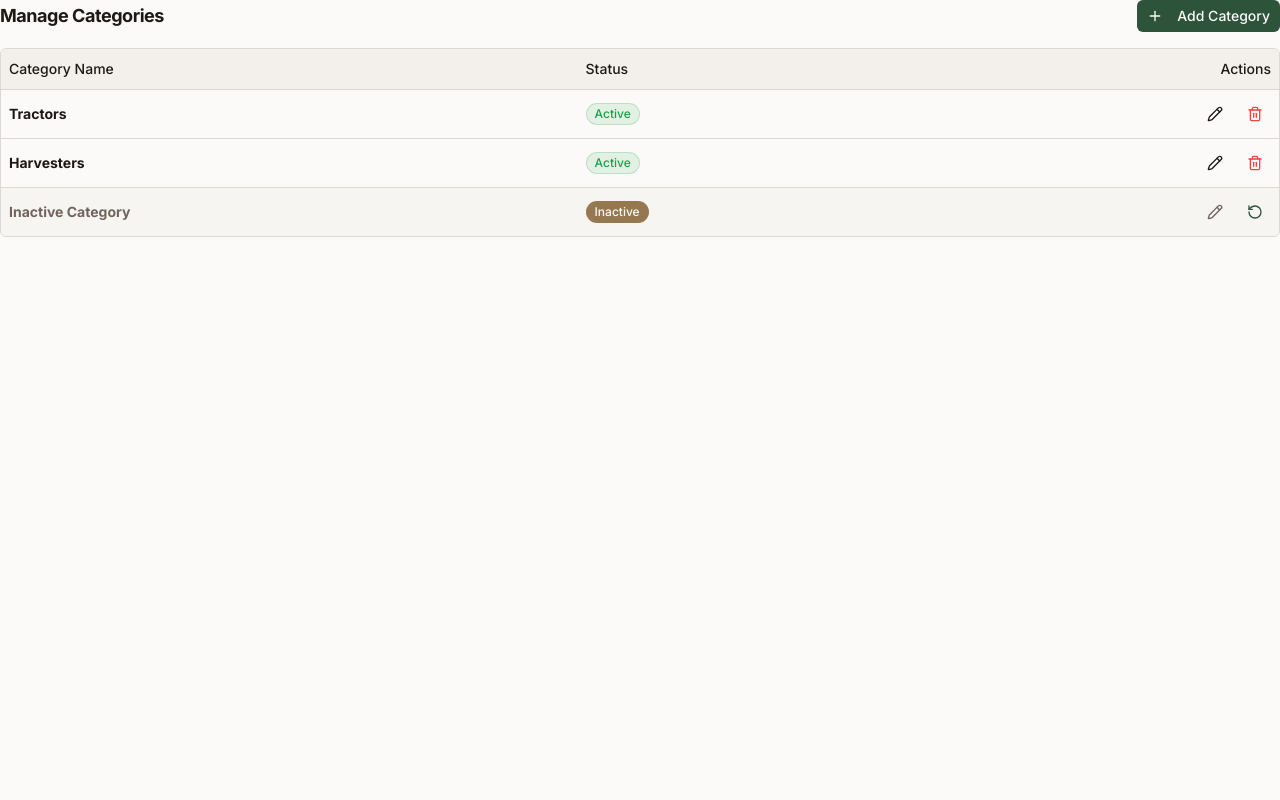
Test: CategoryManager › should not delete a category if confirm is cancelled
What coordinates should you click on to do the following:
click the button named "Deactivate category"
I would click on:
 (1255, 114)
Its box is [1239, 98, 1271, 130].
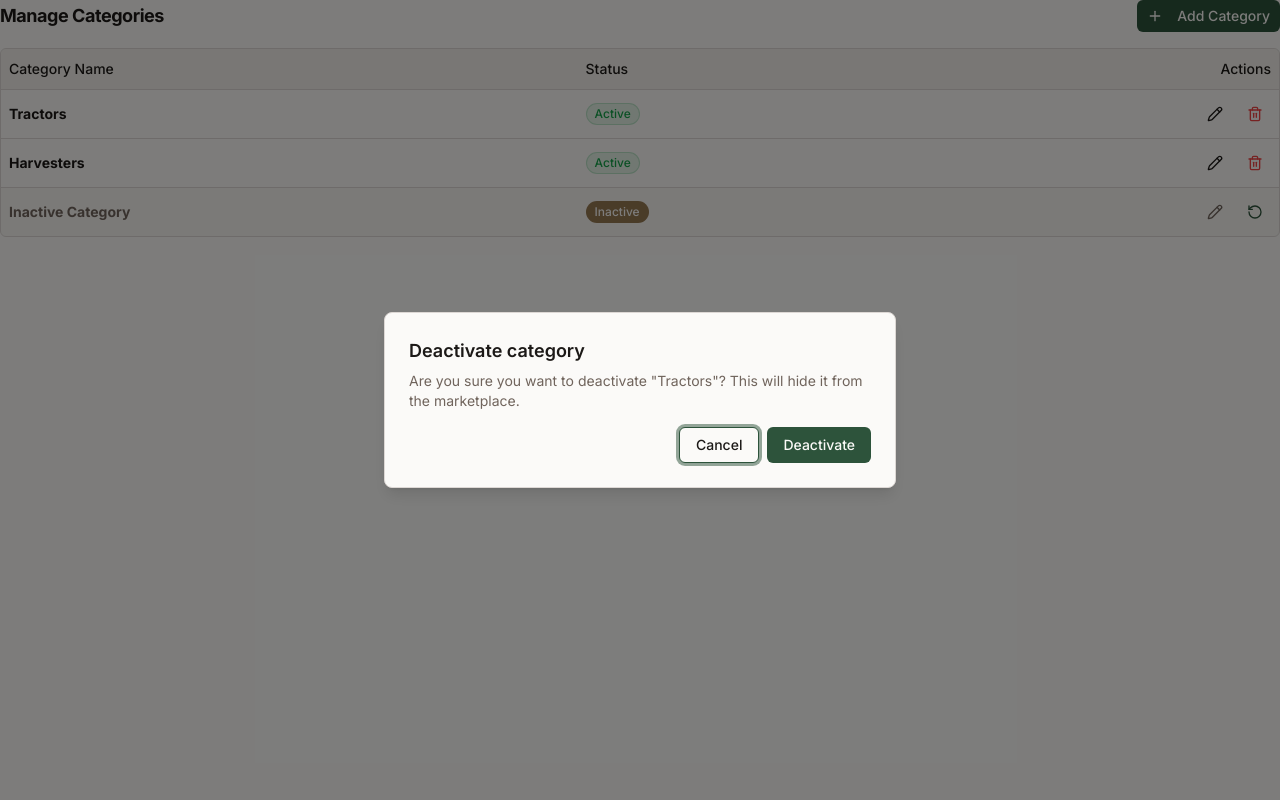
Now the dialog is shown, box [384, 312, 896, 488]
What coordinates should you click on to do the following:
click the button "Cancel"
I would click on:
 (719, 445)
Its box is [679, 427, 760, 463].
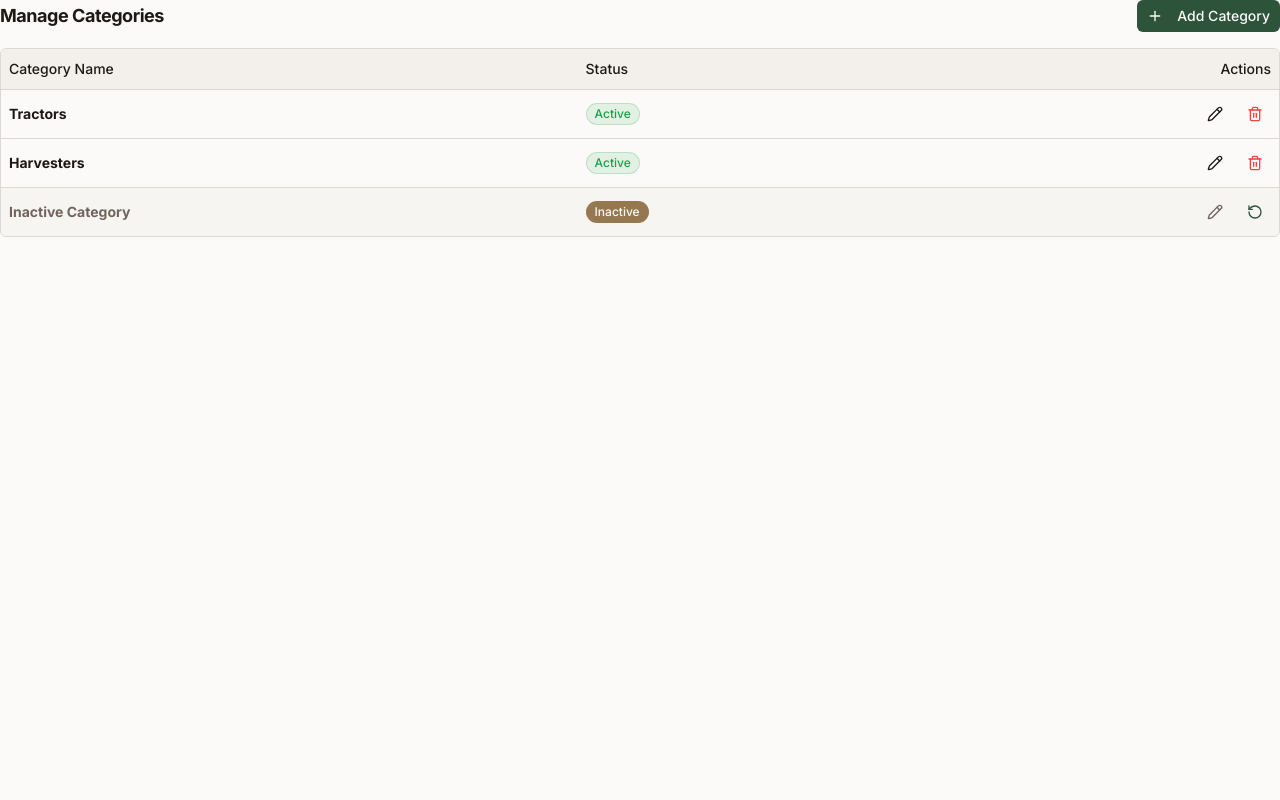
Now the dialog is gone
